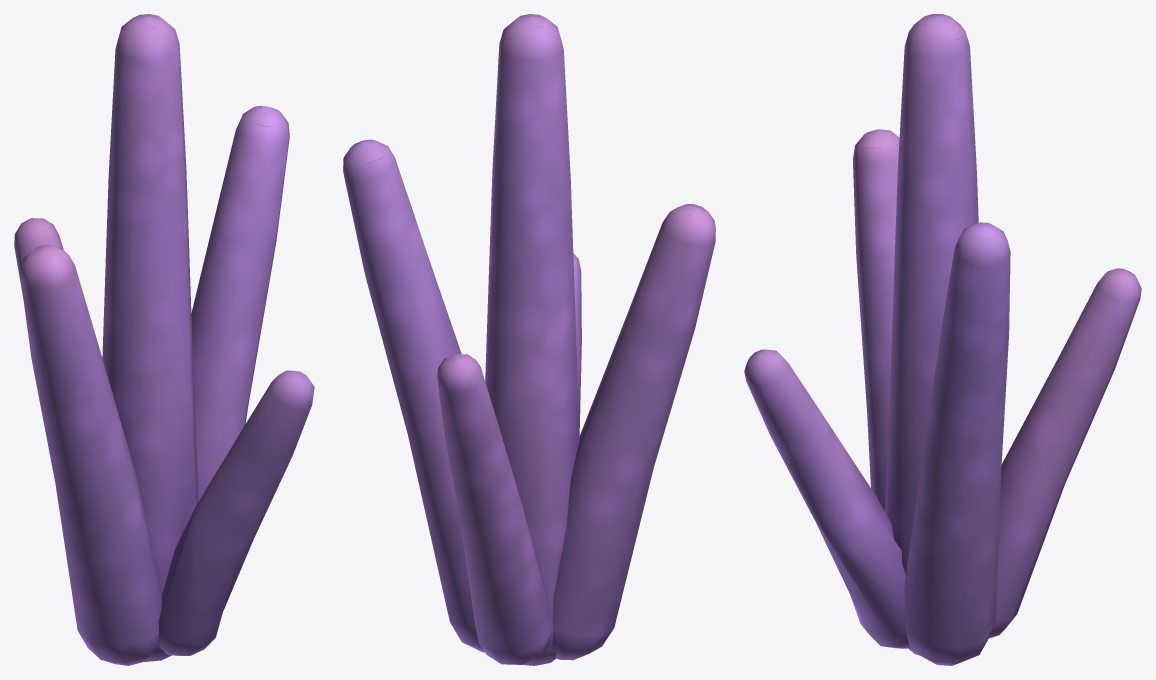
The model's file is WM_CoralBranch_B.fbx.
The picture shows the model from 3 angles, left to right: view 1: azimuth 30°, elevation 25°; view 2: azimuth 150°, elevation 25°; view 3: azimuth 270°, elevation 25°; orthographic projection.
Parts seen in each view (by area): view 1: WM_CoralBranch_B_LOD0; view 2: WM_CoralBranch_B_LOD0; view 3: WM_CoralBranch_B_LOD0.
Boxes of the visible parts, x1,y1,x2,y2 form: WM_CoralBranch_B_LOD0: (14,14,314,665); WM_CoralBranch_B_LOD0: (343,14,715,665); WM_CoralBranch_B_LOD0: (744,14,1141,665).
Size of what is drawn, in the model's own units: 0.5365 by 1.05 by 0.5963.
